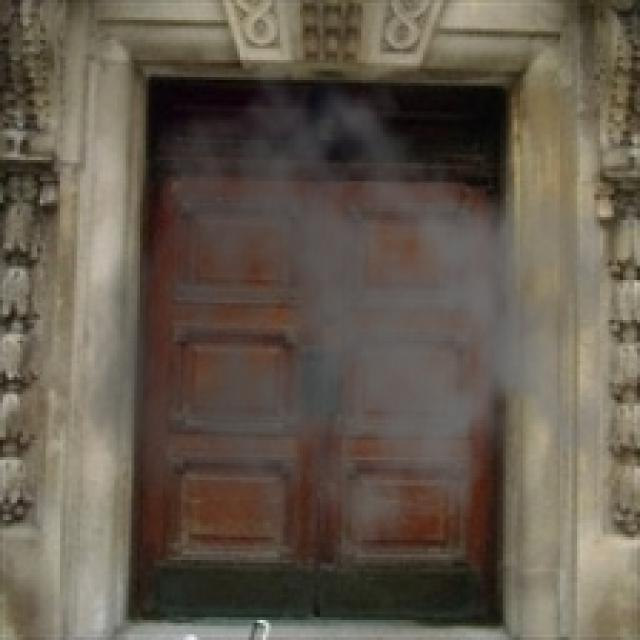Smoke: (77, 60, 600, 609)
